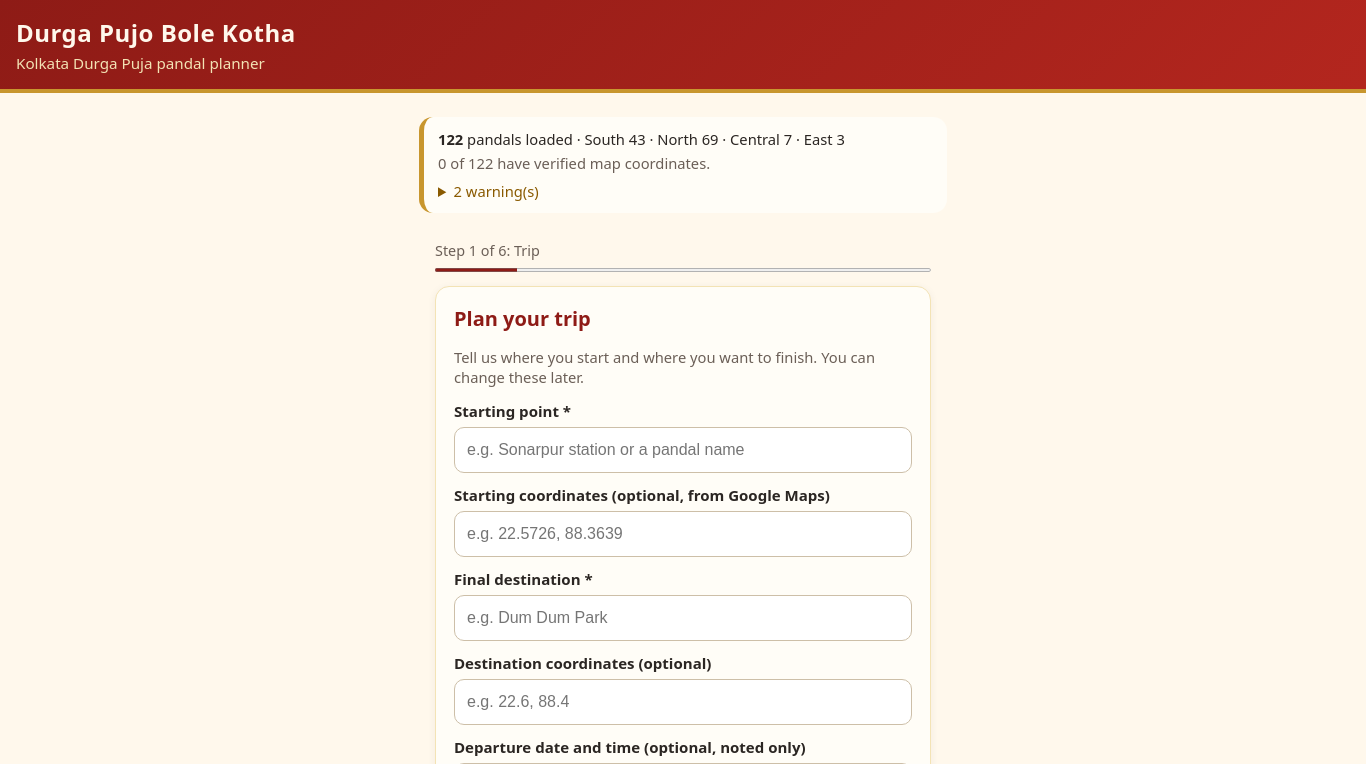
Scenario: Durga Pujo Bole Kotha guided flow › adds North after South and keeps South selections
This screenshot has width=1366, height=764.
Type "Sonarpur station" into the field labelled "Starting point *".
click(683, 450); type("Sonarpur station")  # box [454,427,912,473]
Type "Dum Dum Park" into the field labelled "Final destination *".
click(683, 618); type("Dum Dum Park")  # box [454,595,912,641]
(page scrolled)
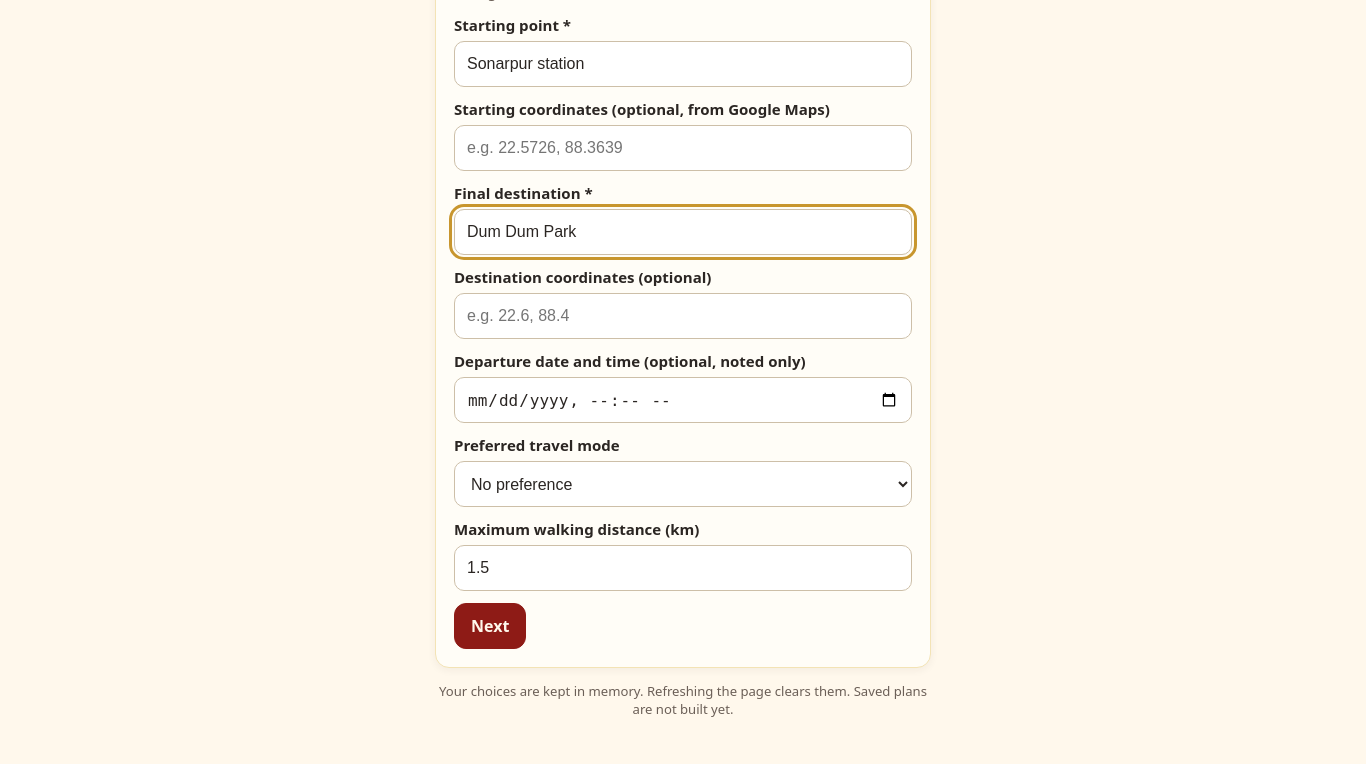
Click the button "Next".
click(490, 626)  # box [454,603,526,649]
(page scrolled)
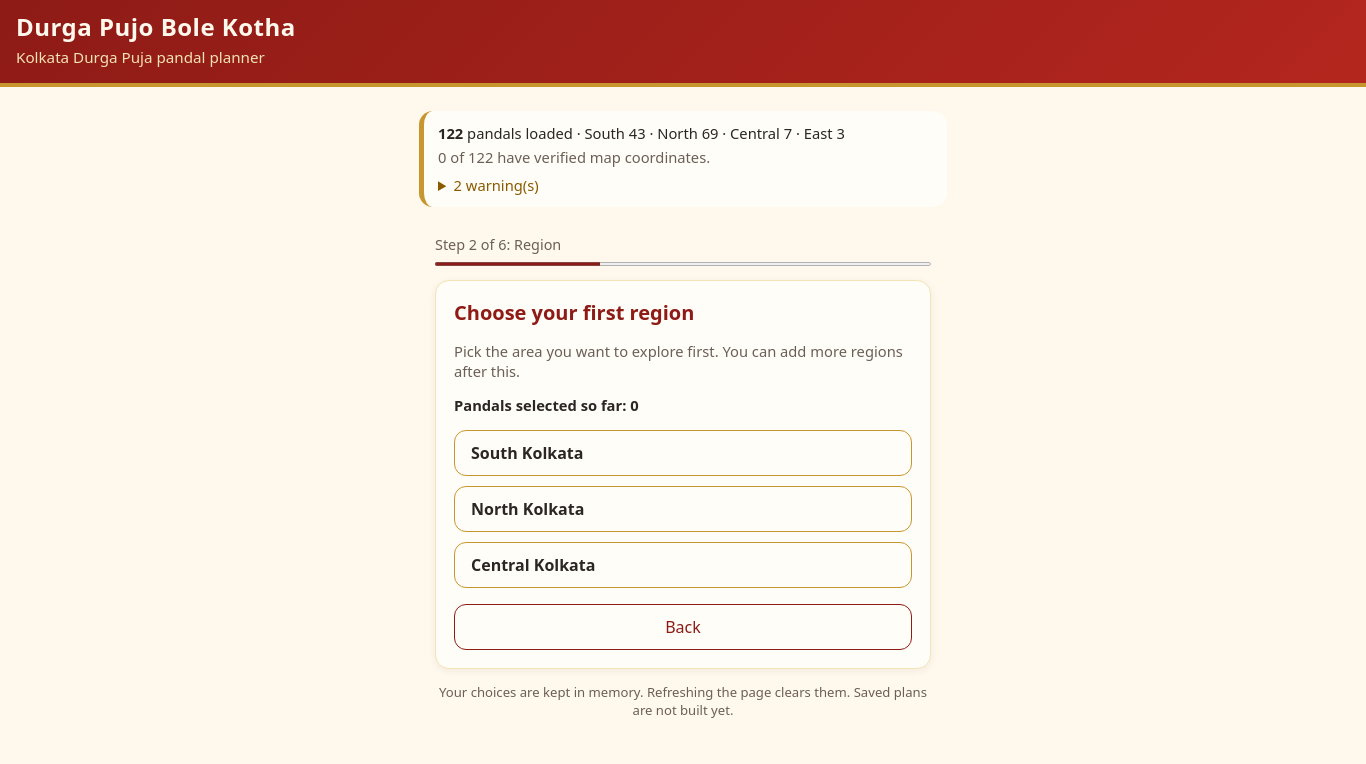
Click the button "South Kolkata".
click(527, 453)  # box [454,430,912,476]
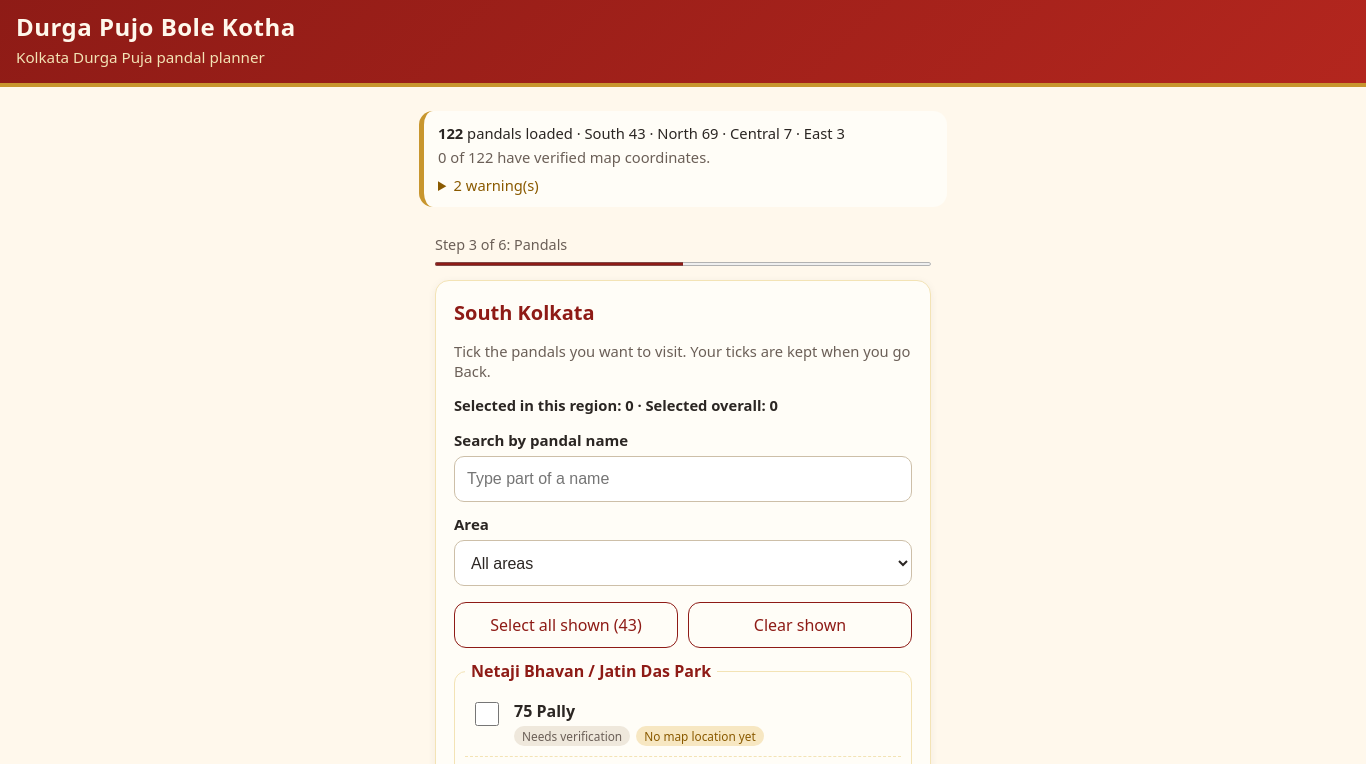
Click the checkbox labelled "75 Pally Needs verification No map location yet".
click(487, 714)  # box [475,702,499,726]
(page scrolled)
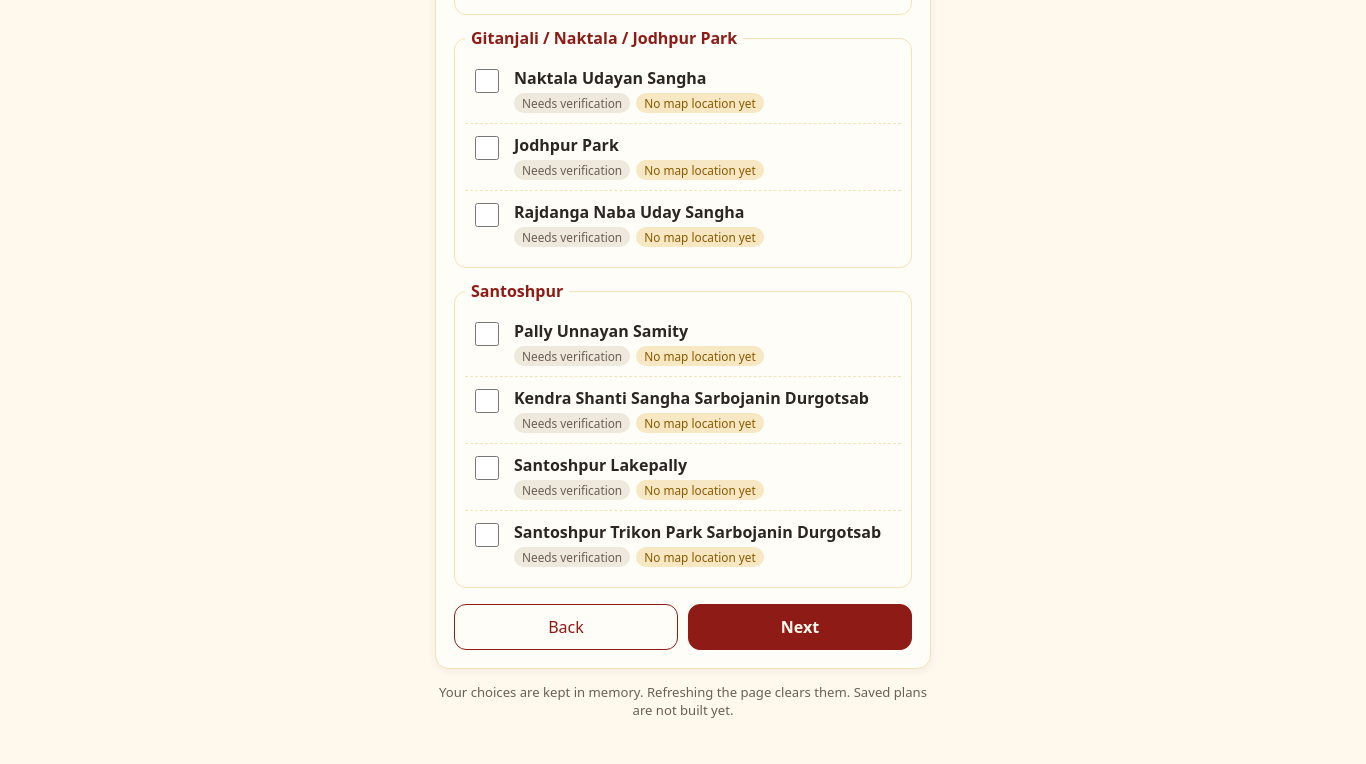
Click the button "Next".
click(800, 627)  # box [688,604,912,650]
(page scrolled)
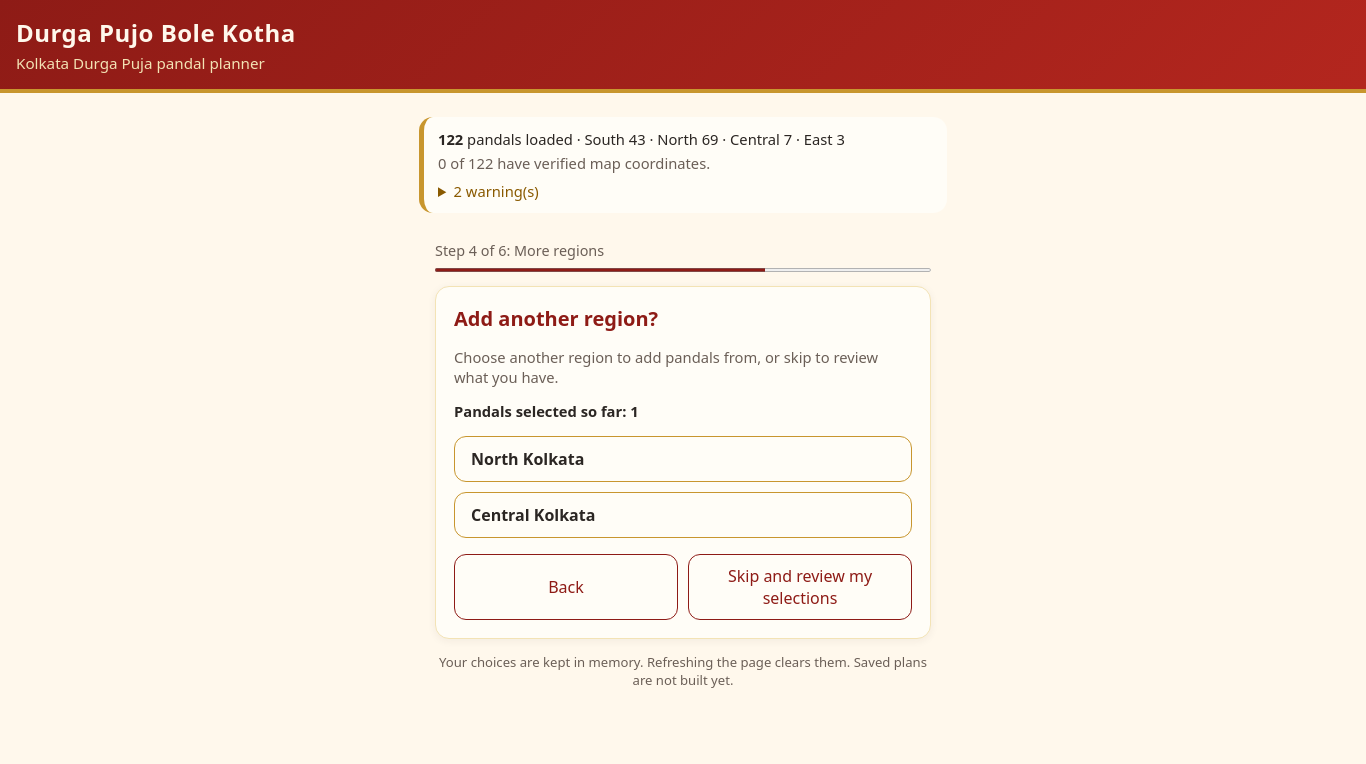
Click the button "North Kolkata".
click(528, 459)  # box [454,436,912,482]
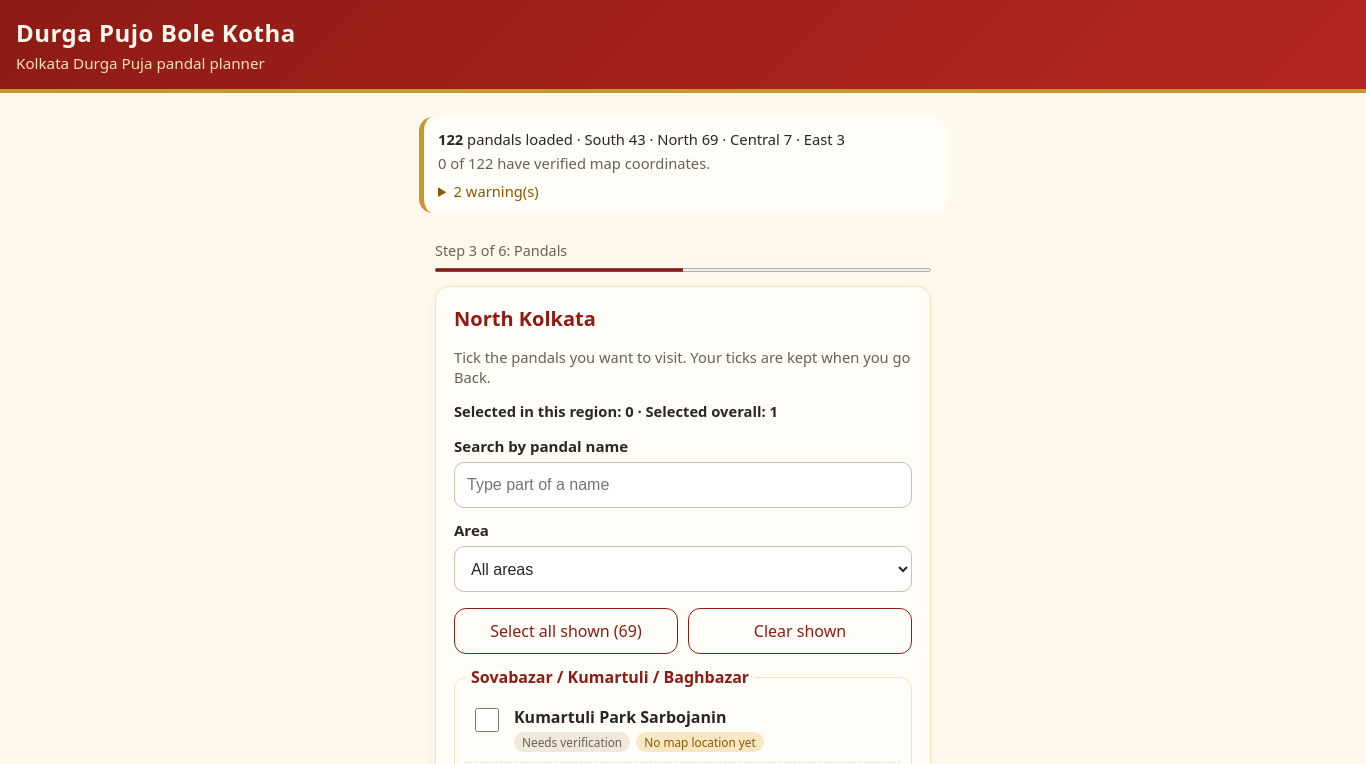
Now the heading "North Kolkata" is shown, box [454,305,596,332]
Now the text "Selected in this region: 0 · Selected overall: 1" is shown, box [454,401,778,421]
